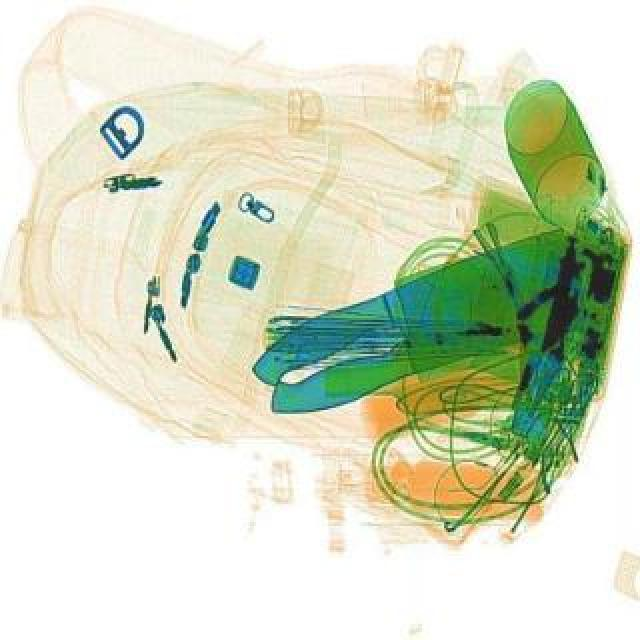knife: (240, 226, 600, 434), (242, 224, 602, 420)
